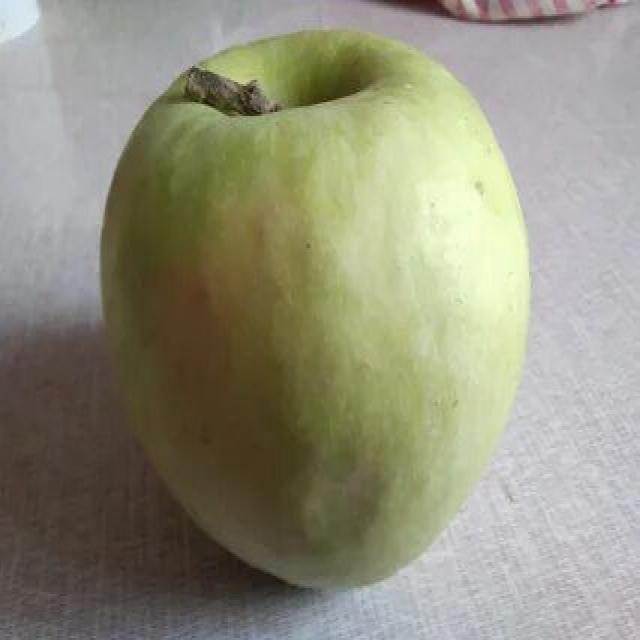Healty Apple: (101, 34, 532, 588)
